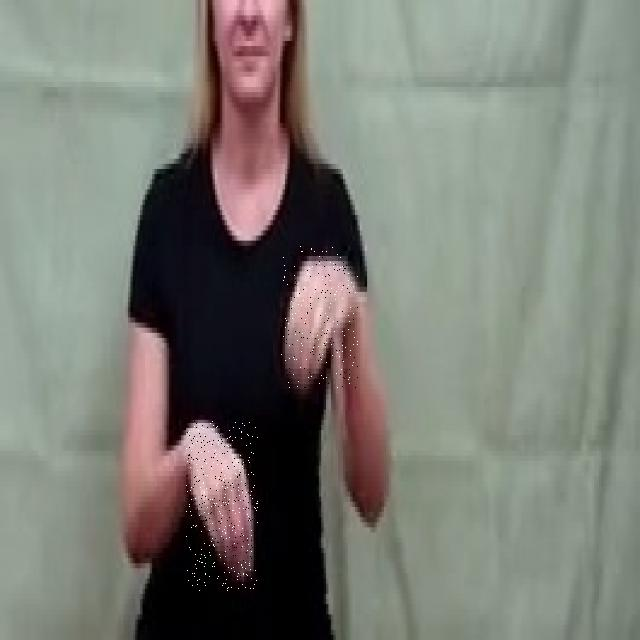ingredients: (186, 422, 258, 592), (281, 246, 358, 388)
